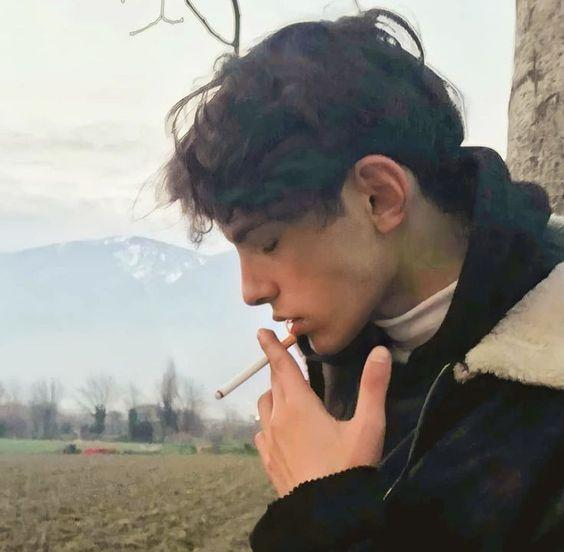cigarette: (215, 333, 297, 400)
